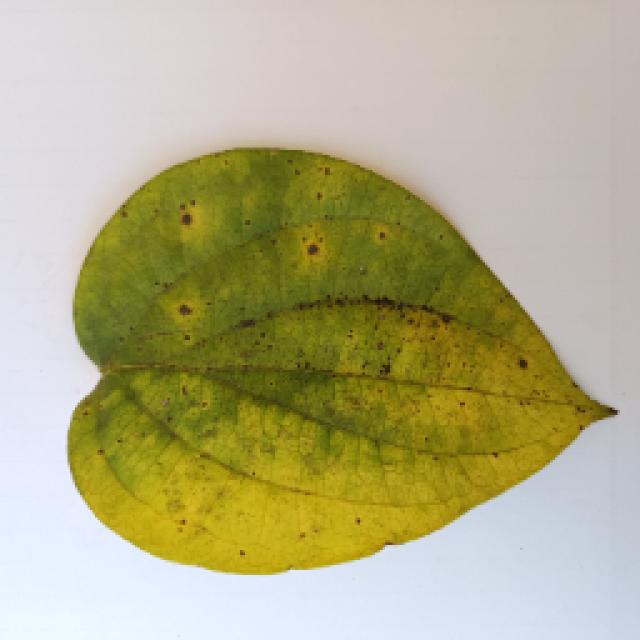slow-decline: (45, 157, 617, 605)
